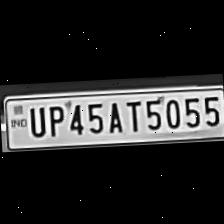0: (161, 94, 181, 128)
4: (64, 99, 84, 135)
5: (82, 98, 104, 134), (140, 95, 162, 131), (199, 91, 221, 127), (179, 92, 201, 126)
A: (103, 97, 125, 133)
P: (42, 100, 64, 136)
T: (123, 96, 143, 132)
U: (25, 102, 46, 136)
